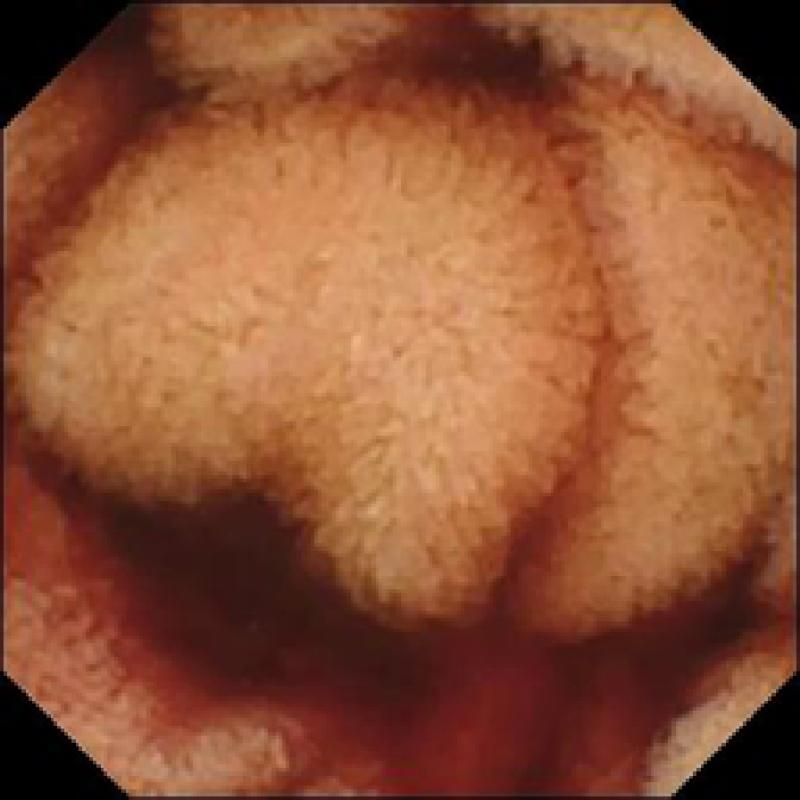bleeding: (71, 525, 722, 800)
